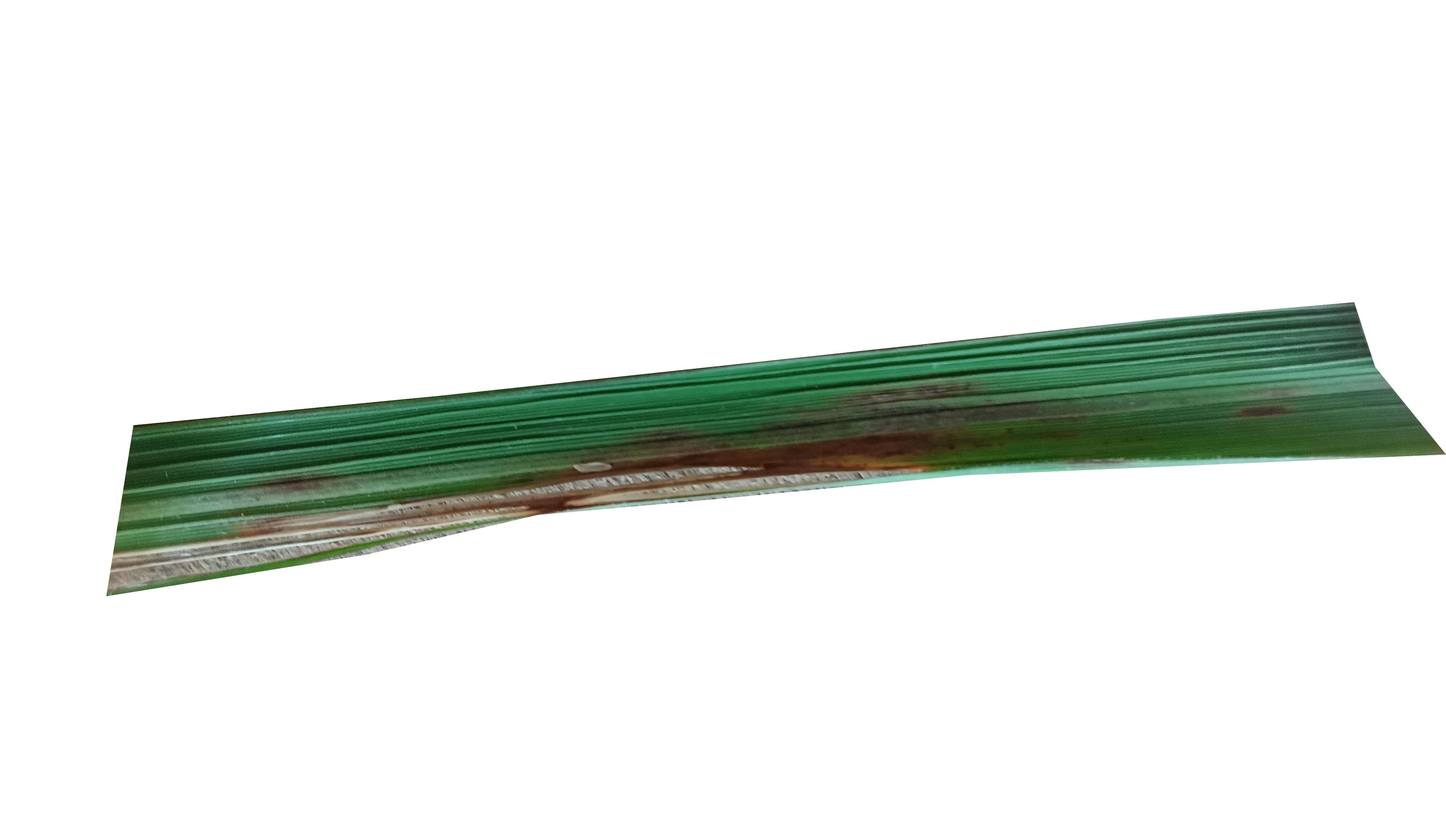Rice blast: (554, 443, 925, 483), (836, 384, 1003, 448), (275, 495, 499, 530), (122, 535, 235, 585), (1227, 375, 1312, 436)
